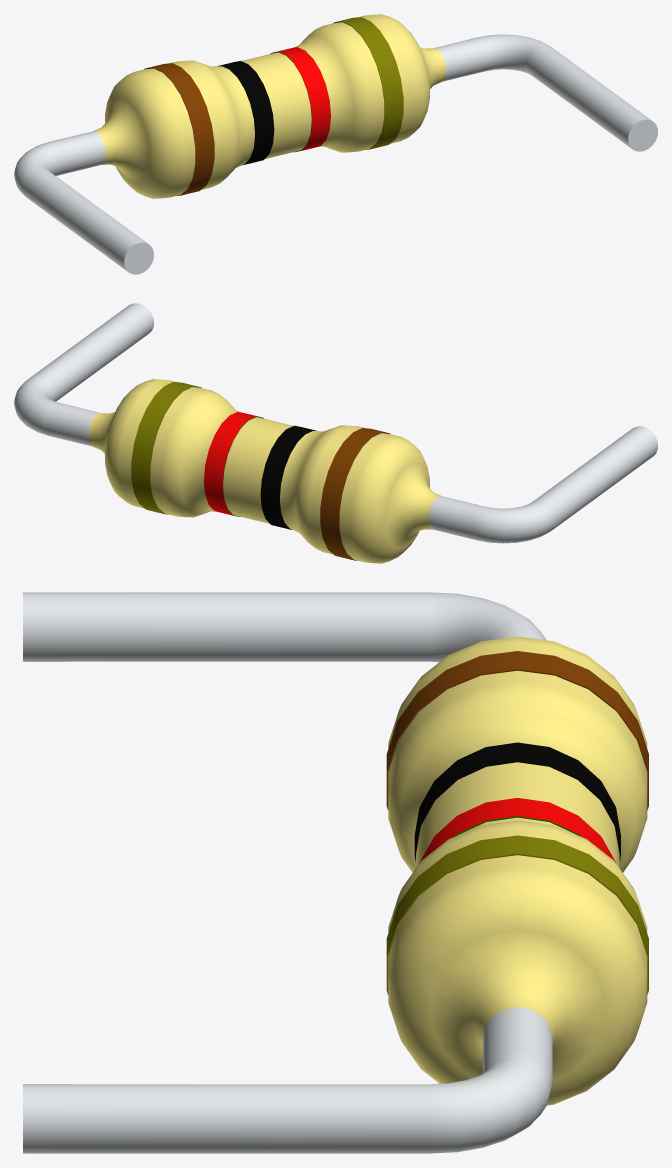
3 views of the same model, one above another, from view 1: azimuth 30°, elevation 25°; view 2: azimuth 150°, elevation 25°; view 3: azimuth 270°, elevation 25° (orthographic). The views are drawn at different scales.
Visible parts, largest first — view 1: Extrude-Thin4; view 2: Extrude-Thin4; view 3: Extrude-Thin4.
Part boxes in pixels (bbox=[...]): Extrude-Thin4: bbox=[14, 14, 657, 274]; Extrude-Thin4: bbox=[14, 303, 657, 563]; Extrude-Thin4: bbox=[23, 592, 648, 1153].
Bounding box in the file's own units: 0.424 × 0.091 × 0.215.
